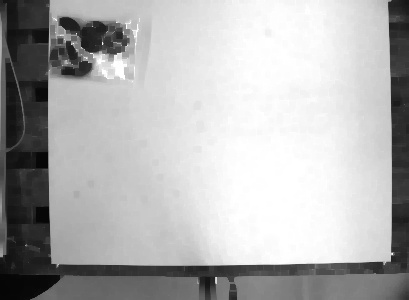t1: (43, 9, 138, 87)
